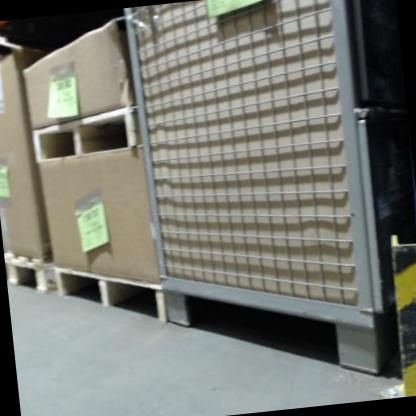pallet: (55, 257, 163, 324), (30, 104, 141, 164), (4, 247, 52, 297)
stillage: (126, 0, 416, 404)
